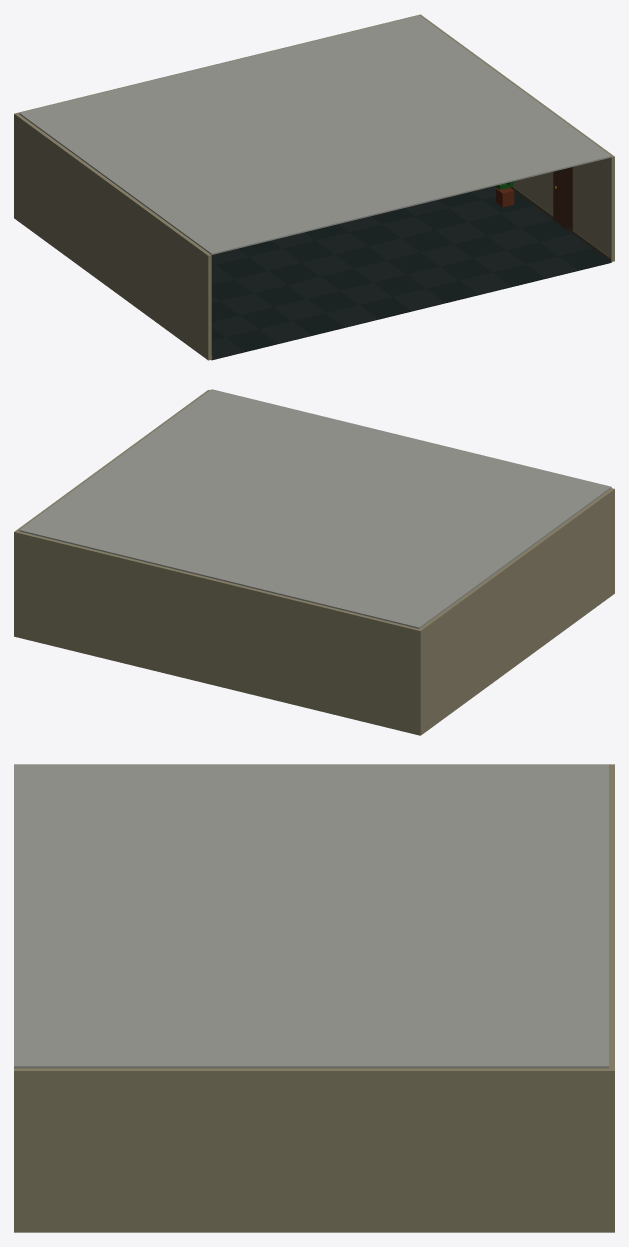
Rendered from office.glb.
The picture shows the model from 3 angles, top to bottom: view 1: azimuth 30°, elevation 25°; view 2: azimuth 150°, elevation 25°; view 3: azimuth 270°, elevation 25°; orthographic projection. The views are drawn at different scales.
Visible parts, largest first — view 1: Office; view 2: Office; view 3: Office.
Part boxes in pixels (x1,y1,x2,y2): Office: [14, 14, 614, 360]; Office: [14, 389, 614, 735]; Office: [14, 764, 614, 1232].
Size of the model in its own units: 12.2 by 3.06 by 10.1.
2 materials, 2 textured.
